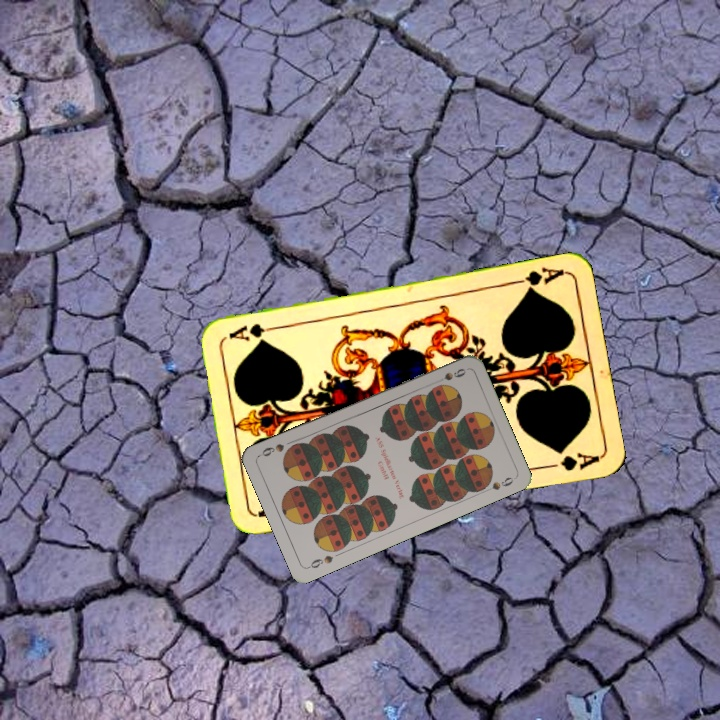GA: (507, 263, 566, 295)
S9: (430, 364, 468, 387), (304, 551, 336, 571)
